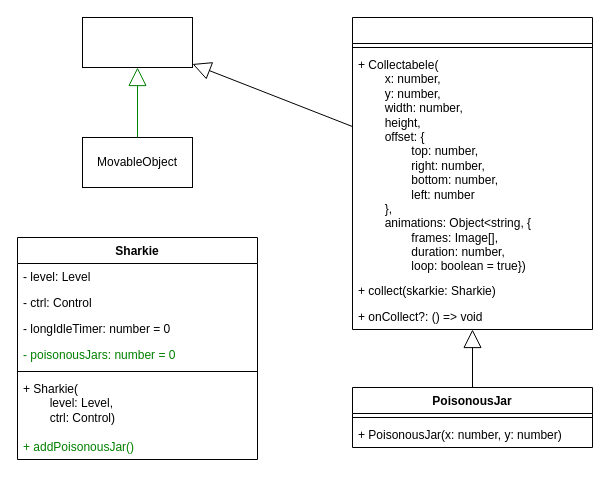
The diagram is 610 pixels wide and 480 high, and some of its shapes have lost their labels. Each missing label, with the box of its shape:
AnitmatedObject: (82, 16, 192, 68)
Collectable: (352, 16, 592, 330)
